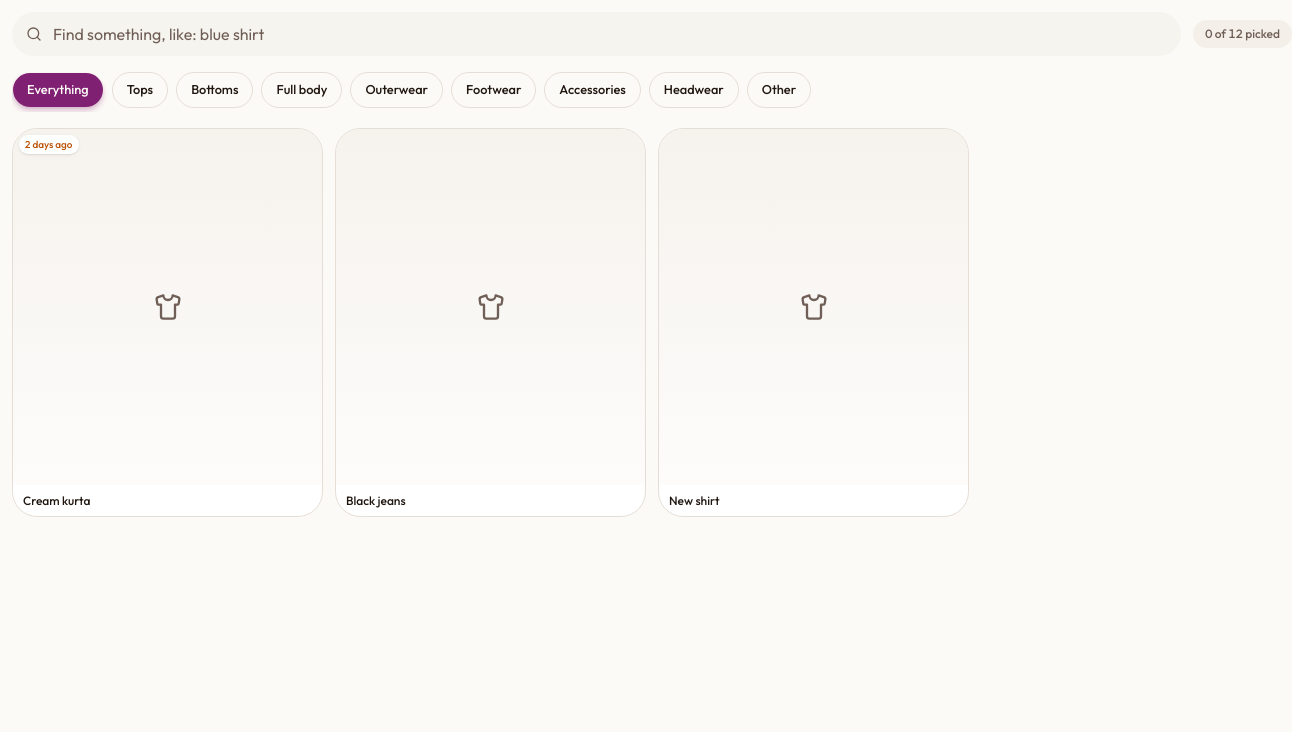
Test: ItemPicker › shows what was picked, with the day and the occasion
Click the button with aria-label "Cream kurta.".
click(168, 322)  # box [12,128,323,517]
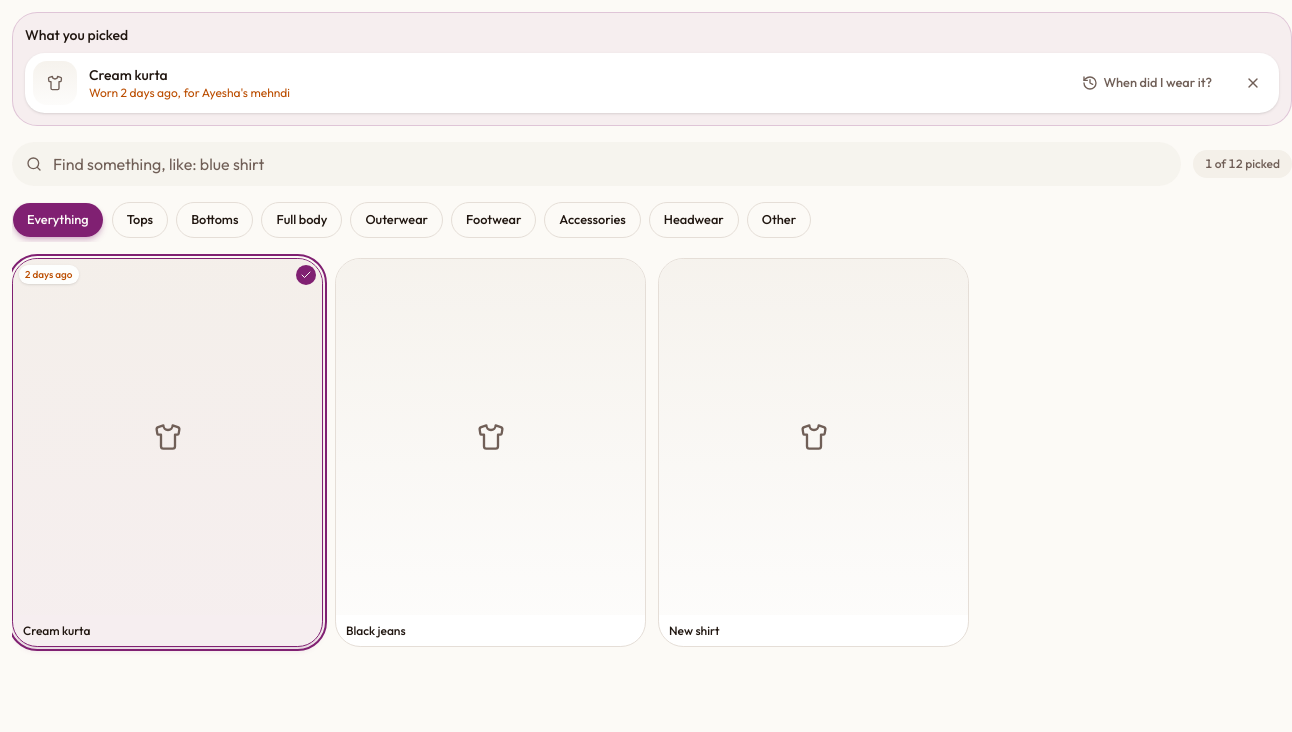
Check: the text "Worn 2 days ago, for Ayesha's mehndi" is shown, box [89,85,290,100]
